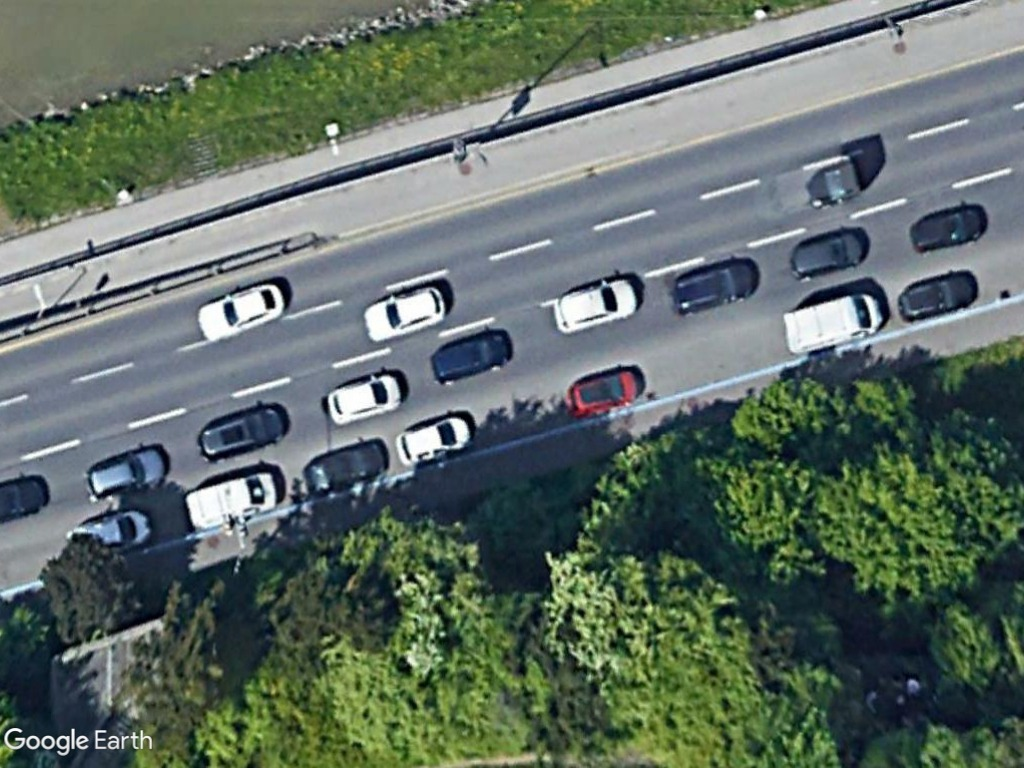car: (188, 275, 292, 347), (191, 397, 296, 465), (664, 252, 763, 321), (357, 275, 452, 346), (546, 270, 645, 338), (299, 433, 394, 502), (77, 439, 170, 506), (319, 362, 406, 430), (423, 325, 518, 386), (781, 221, 870, 283), (390, 410, 477, 470), (892, 268, 981, 325), (904, 200, 993, 255), (563, 363, 645, 420)
van: (774, 286, 886, 357), (179, 464, 284, 537)
